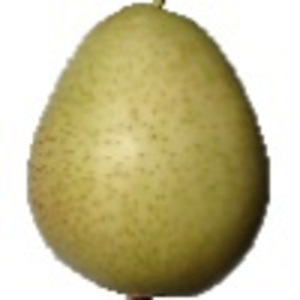pera: (26, 1, 271, 300)
